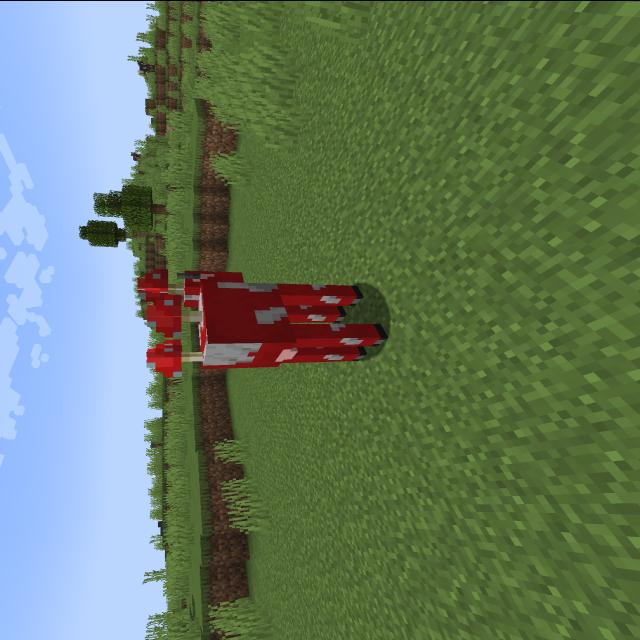Mooshroom: (127, 260, 410, 382)
